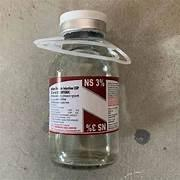Iv_Bottle: (49, 10, 118, 166)
